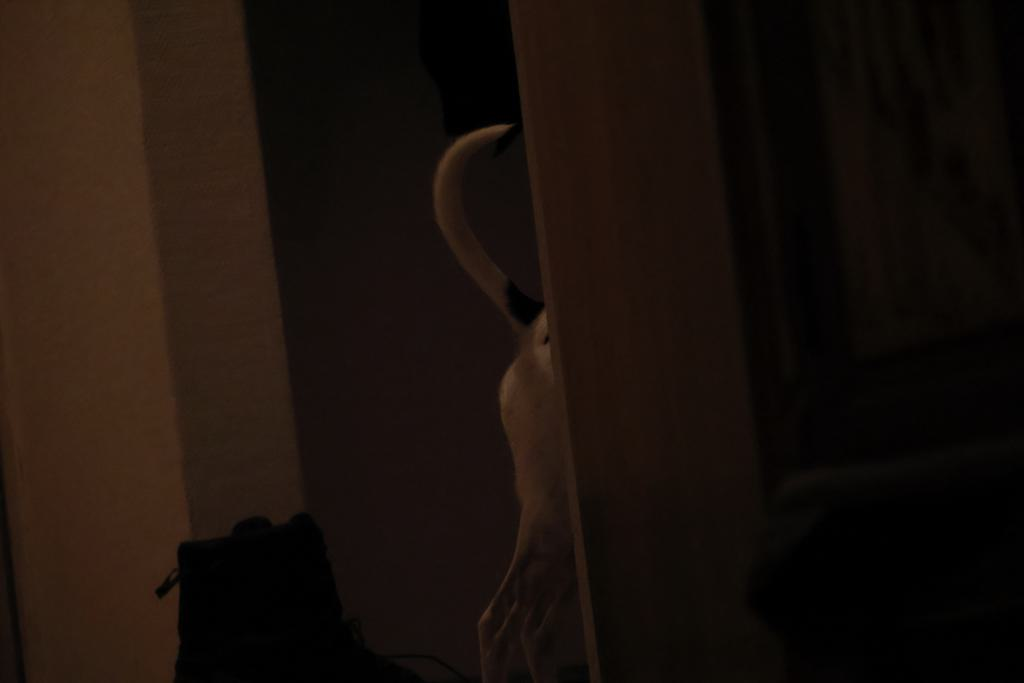Dog: (419, 97, 601, 683)
